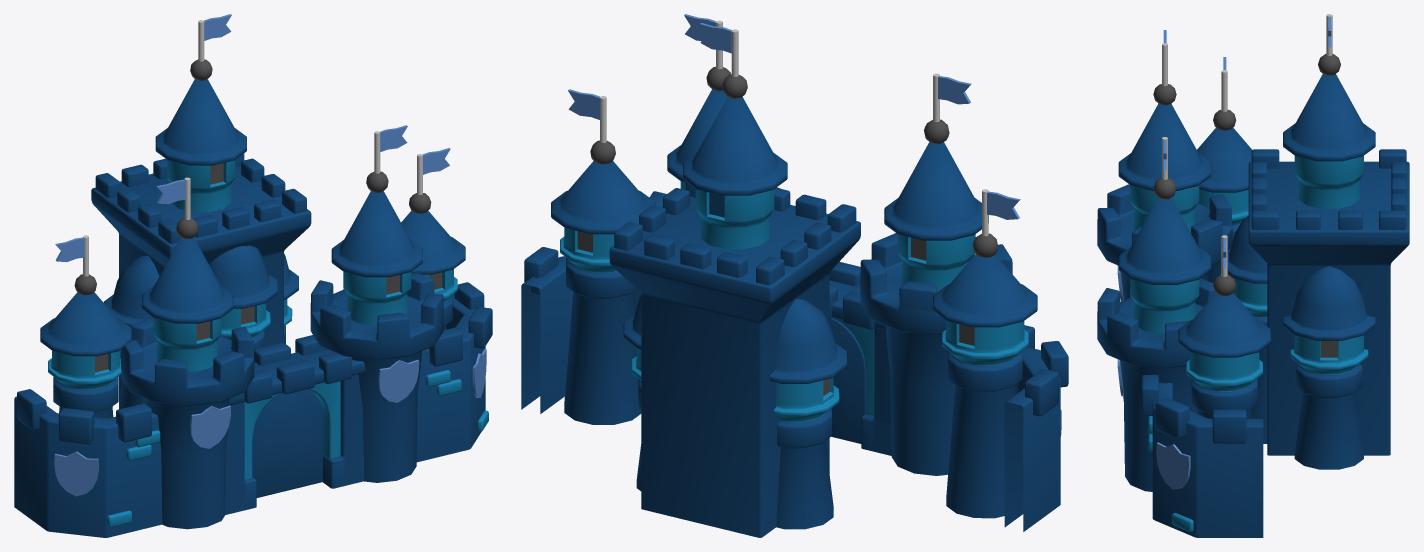
Rendered from CastleModel.fbx.
3 views of the same model, side by side, from view 1: azimuth 30°, elevation 25°; view 2: azimuth 150°, elevation 25°; view 3: azimuth 270°, elevation 25° (orthographic). The views are drawn at different scales.
Visible parts, largest first — view 1: castle, door; view 2: castle, door; view 3: castle.
Boxes of the visible parts, x1=… form: castle: x1=14, y1=14, x2=492, y2=537; door: x1=252, y1=389, x2=323, y2=497; castle: x1=521, y1=14, x2=1068, y2=537; door: x1=829, y1=318, x2=865, y2=443; castle: x1=1097, y1=14, x2=1409, y2=537.
Bounding box in the file's own units: 1166 × 1007 × 688.
